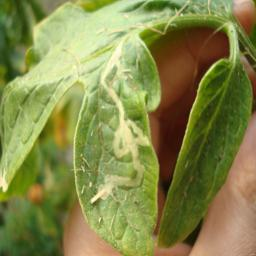liriomyza: (88, 36, 152, 204)
